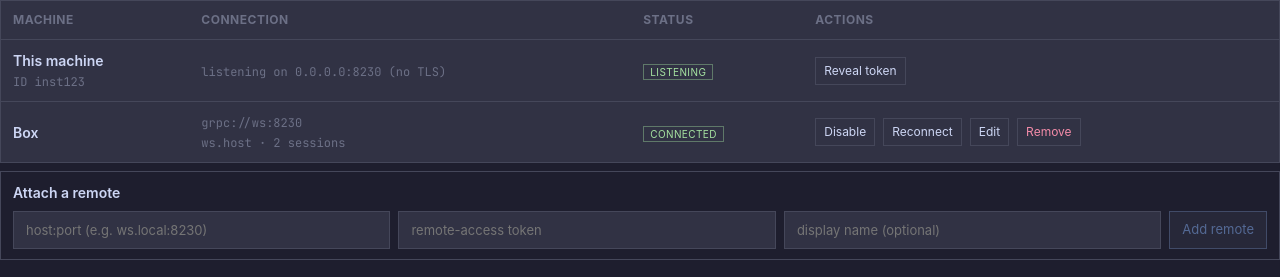
Test: RemoteSettings › toggles an enabled=true remote without replacing its connection settings
Click the button "Disable".
click(845, 132)  # box [815,118,875,146]
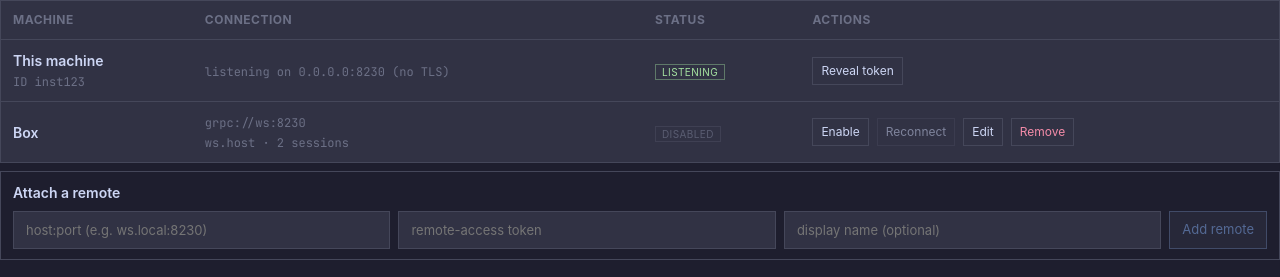
Now the button "Enable" is shown, box [812,118,869,146]
Now the text "disabled" is shown, box [655,126,721,142]
Now the text "connected" is gone
